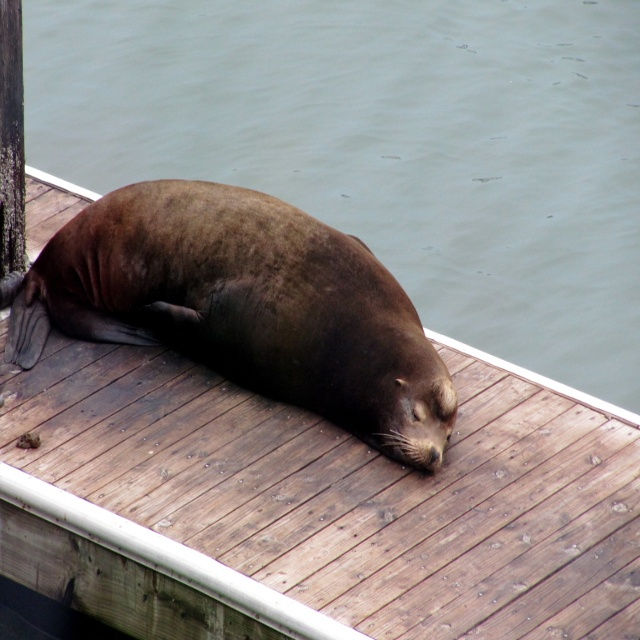Sea lion: (4, 179, 457, 476)
